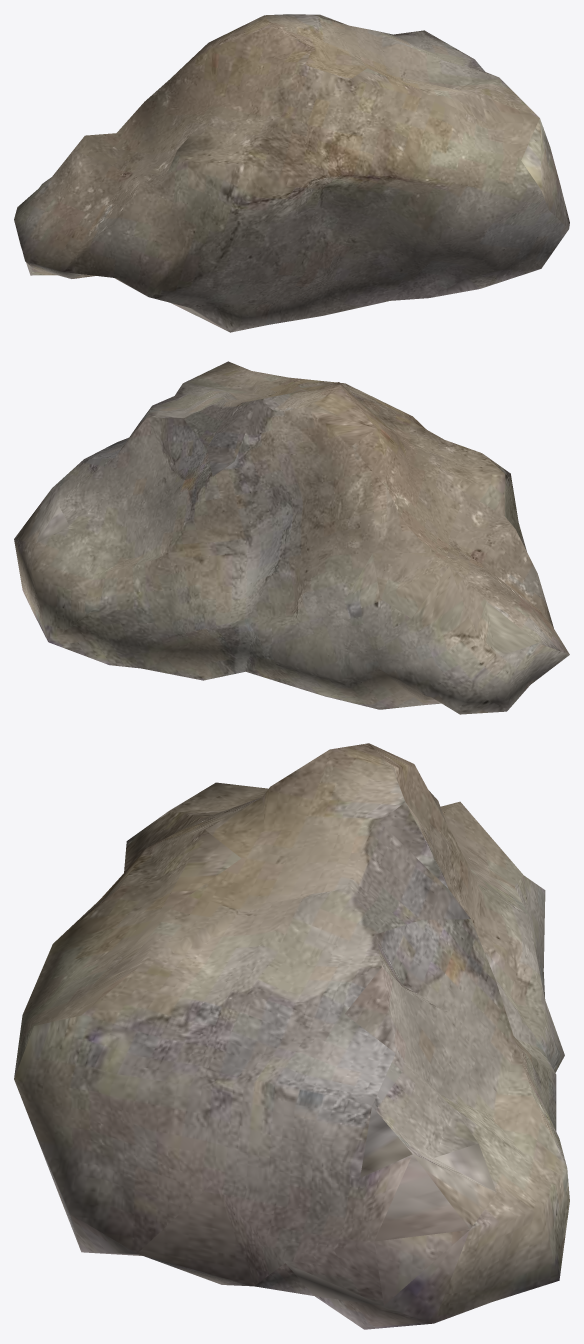
File: mesh_stone-a.fbx
3 views of the same model, one above another, from view 1: azimuth 30°, elevation 25°; view 2: azimuth 150°, elevation 25°; view 3: azimuth 270°, elevation 25° (orthographic). The views are drawn at different scales.
Parts seen in each view (by area): view 1: stone-a; view 2: stone-a; view 3: stone-a.
Boxes of the visible parts, x1,y1,x2,y2 form: stone-a: [14, 14, 569, 332]; stone-a: [14, 361, 569, 714]; stone-a: [14, 743, 569, 1329].
Bounding box in the file's own units: 93.9 × 46.07 × 57.41.
Materials: 1 (1 with a texture image).
